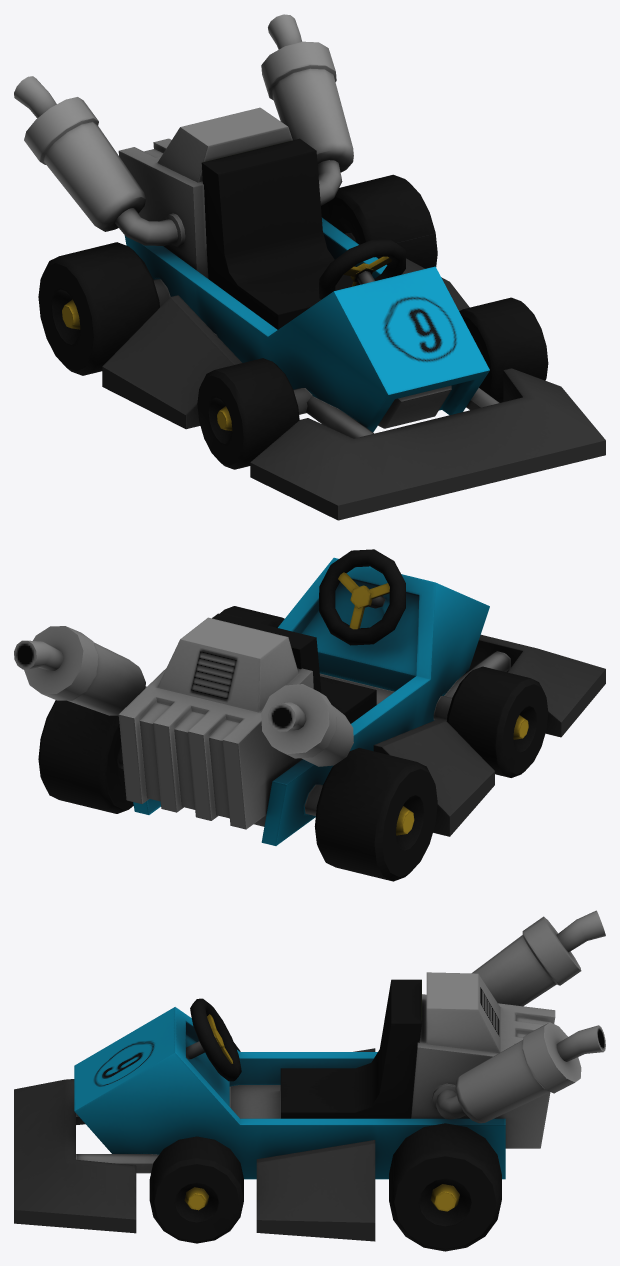
The model's file is Cart Toy Blue.fbx.
3 renders of one model, top to bottom at view 1: azimuth 30°, elevation 25°; view 2: azimuth 150°, elevation 25°; view 3: azimuth 270°, elevation 25°, orthographic. The views are drawn at different scales.
Visible parts, largest first — view 1: Base, Rear_Axle, Right_Tire, Left_Tire, Steering_Wheel; view 2: Base, Rear_Axle, Right_Tire, Steering_Wheel, Left_Tire; view 3: Base, Rear_Axle, Left_Tire, Steering_Wheel.
Boxes of the visible parts, x1,y1,x2,y2 form: Base: [14, 14, 605, 520]; Rear_Axle: [38, 174, 437, 375]; Right_Tire: [197, 358, 312, 469]; Left_Tire: [459, 297, 548, 402]; Steering_Wheel: [319, 239, 405, 299]; Base: [14, 557, 605, 845]; Rear_Axle: [38, 700, 437, 881]; Right_Tire: [433, 666, 548, 777]; Steering_Wheel: [319, 549, 405, 645]; Left_Tire: [220, 606, 284, 627]; Base: [14, 910, 605, 1241]; Rear_Axle: [389, 1123, 501, 1251]; Left_Tire: [149, 1136, 243, 1243]; Steering_Wheel: [186, 998, 241, 1081].
Bounding box in the file's own units: 34.11 × 21.14 × 54.58.
1 material, 1 textured.
